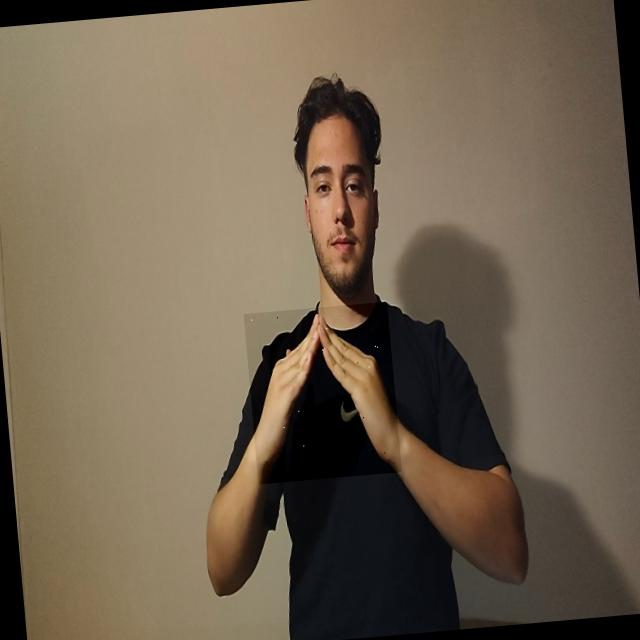house: (243, 301, 402, 484)
